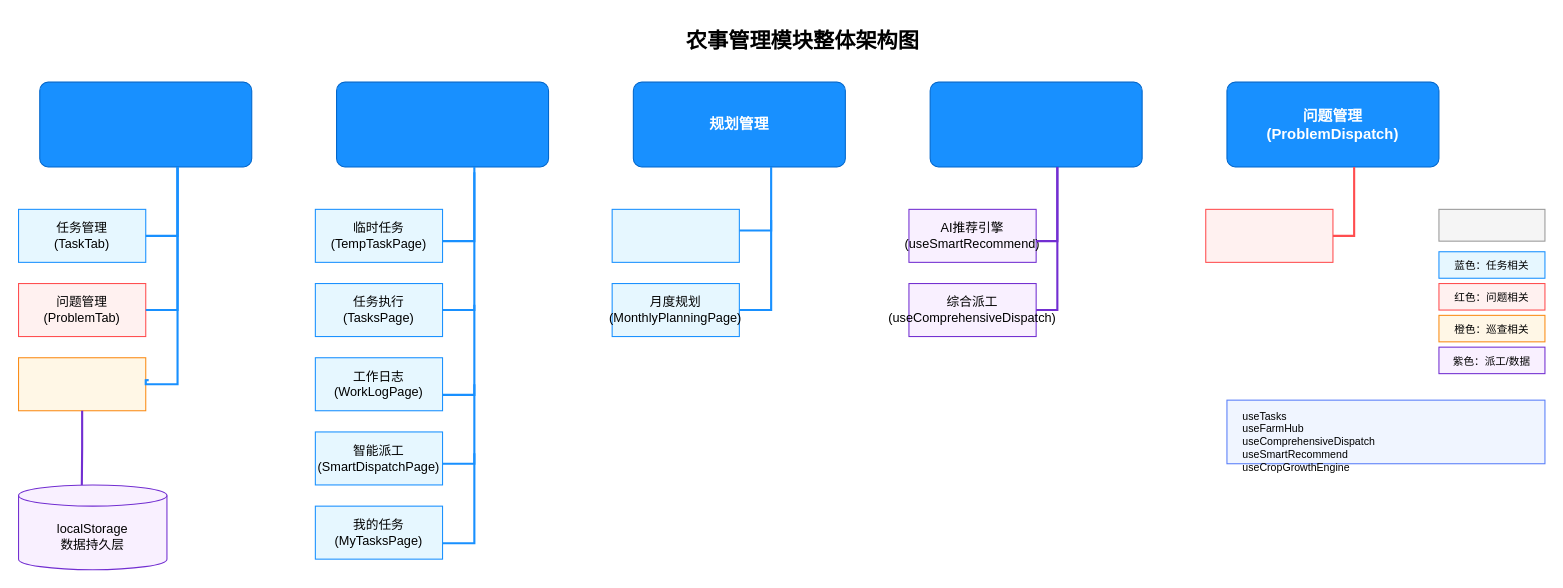
Image size: 1563x588. Some labels were removed from this diagram. Here are the shapes that lost their labels. From the top down, the box of each, then its label:
(39, 81, 252, 167): 农事任务中心 (FarmTaskHub)
(335, 81, 549, 167): 任务中心 (TaskCenterPage)
(929, 81, 1142, 167): 智能派工 (SmartDispatch)
(611, 208, 739, 262): 每日规划 (DailyPlanningPage)
(1205, 208, 1333, 262): 问题分派 (ProblemDispatch)
(1438, 208, 1545, 241): 图例说明
(17, 357, 146, 411): 巡查记录 (InspectionTab)
